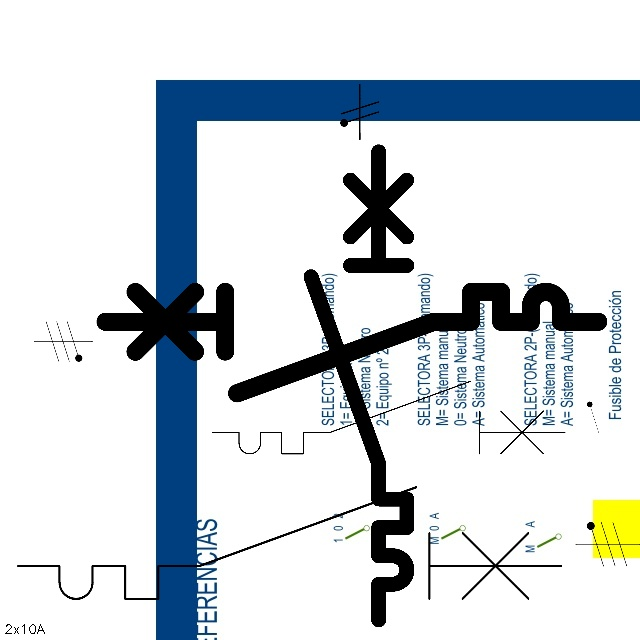interruptor_termomagnetico: (4, 473, 575, 613), (92, 279, 611, 406), (299, 139, 419, 631), (203, 372, 574, 463)
